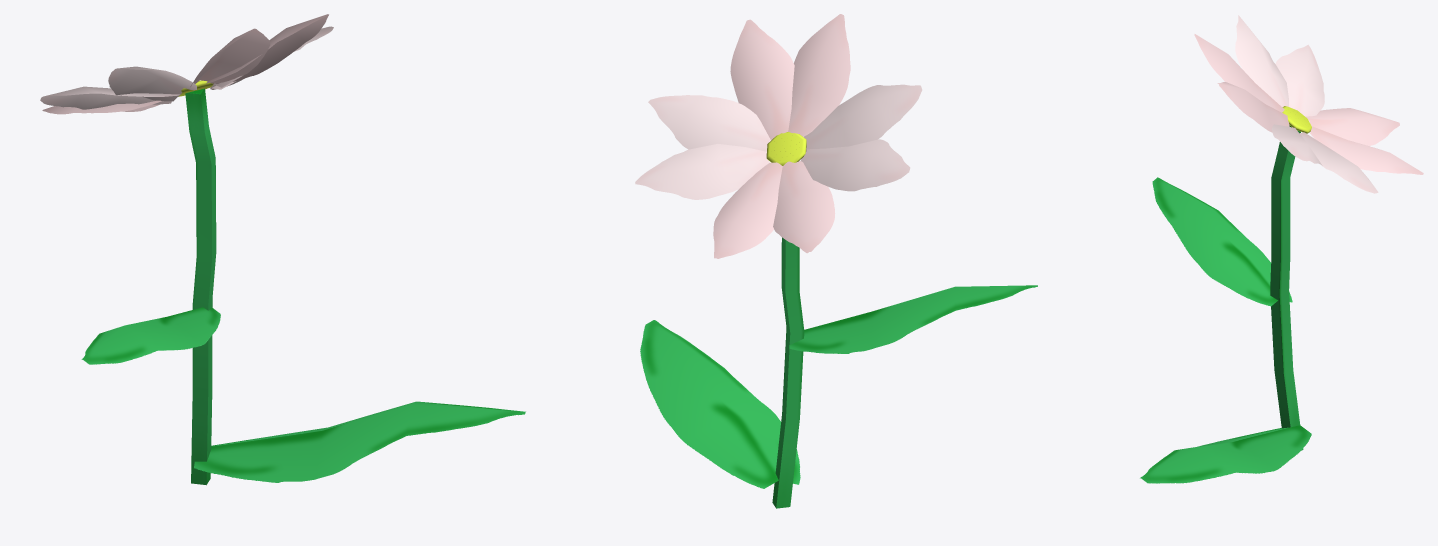
Rendered from SM_Flowers_04.fbx.
3 renders of one model, left to right at view 1: azimuth 30°, elevation 25°; view 2: azimuth 150°, elevation 25°; view 3: azimuth 270°, elevation 25°, orthographic. The views are drawn at different scales.
Visible parts, largest first — view 1: SM_Flowers_04; view 2: SM_Flowers_04; view 3: SM_Flowers_04.
Boxes of the visible parts, x1,y1,x2,y2 form: SM_Flowers_04: (40, 14, 525, 485); SM_Flowers_04: (635, 14, 1037, 508); SM_Flowers_04: (1140, 15, 1423, 483).
Size of the model in its own units: 7.64 by 7.07 by 5.4.
